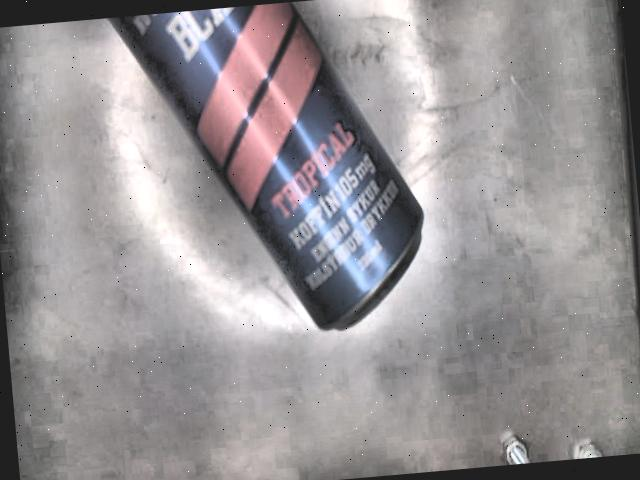Bottles: (108, 1, 426, 332)
